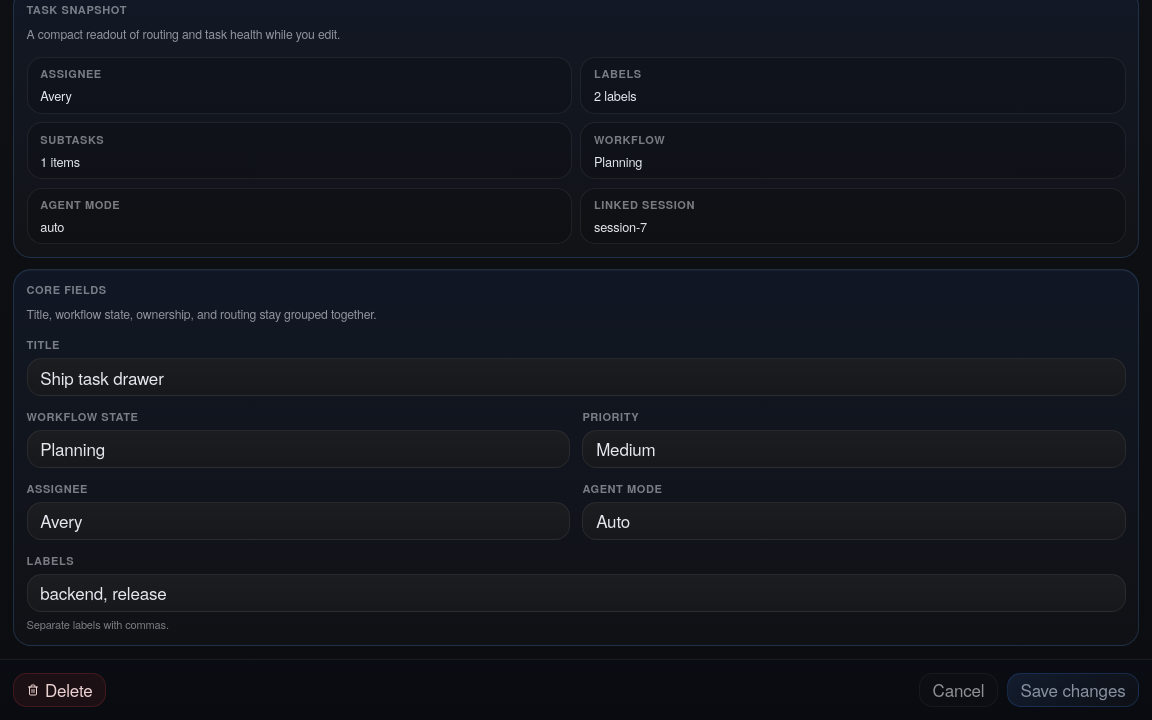
Test case: TaskDetailDrawer › restores the original values when cancel is pressed
(page scrolled)
Replace the text in the field labelled "Title" with "Discard me" at (576, 377), box [26,358,1126,396]
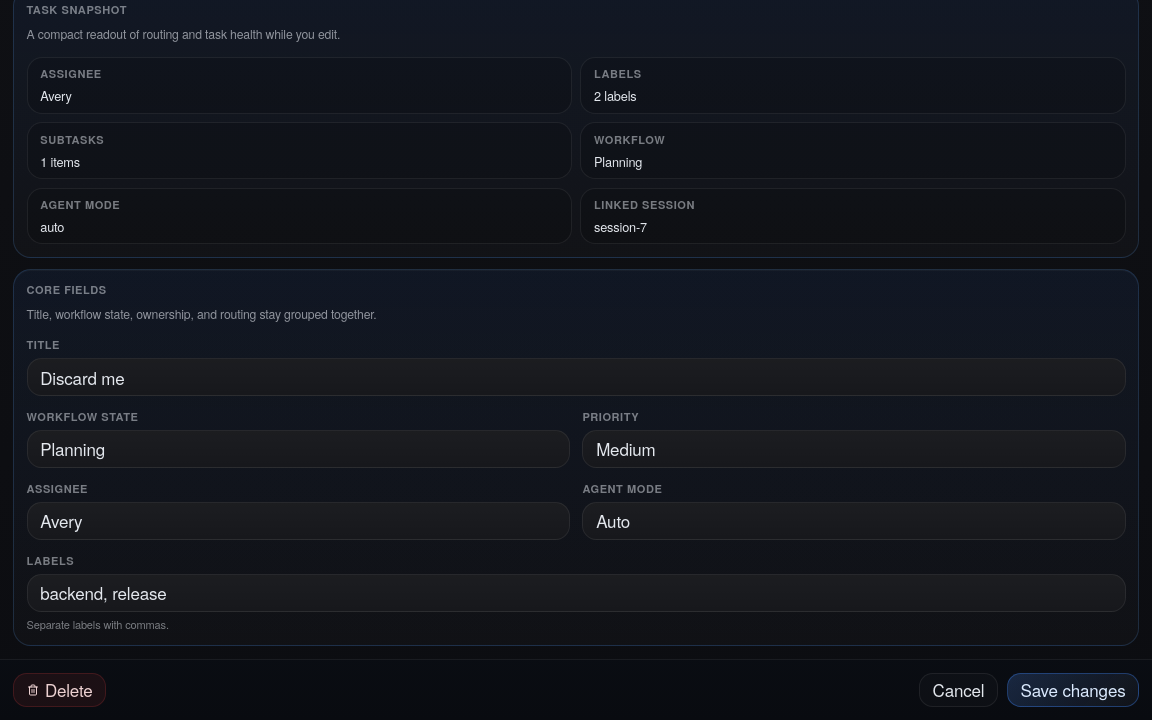
Replace the text in the field with placeholder "backend, review, release" with "temporary" at (576, 593), box [26,574,1126,612]
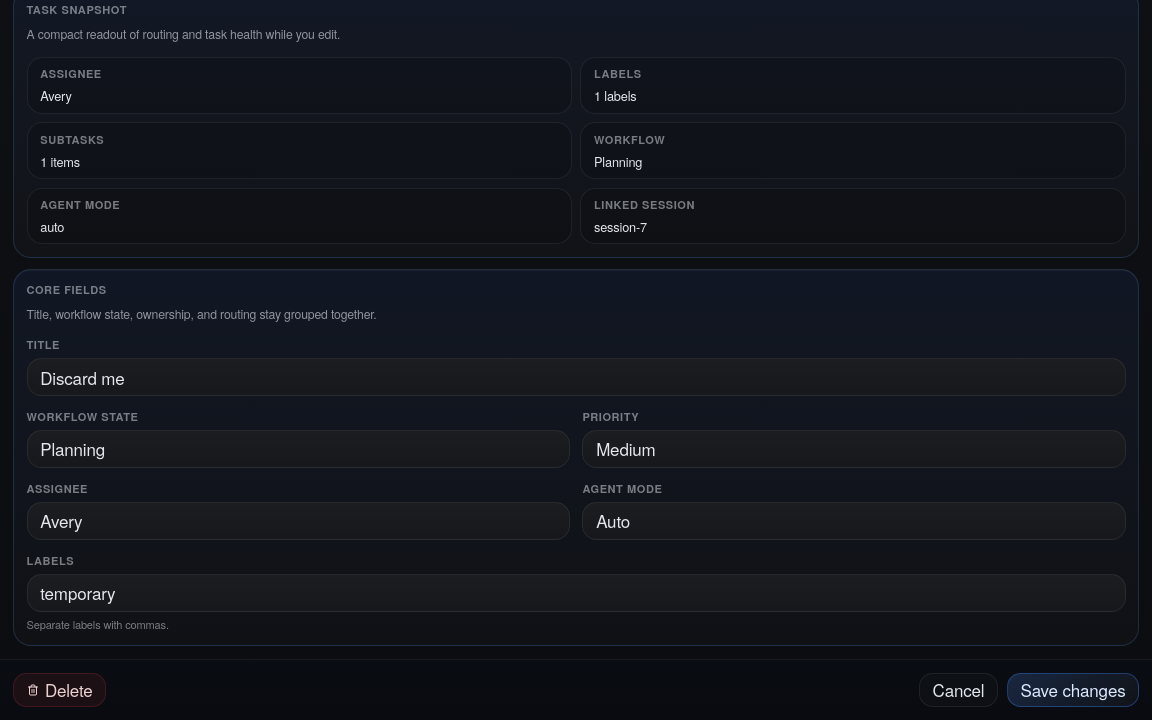
Click the button "Cancel" at (958, 690), box [919,673,998,707]
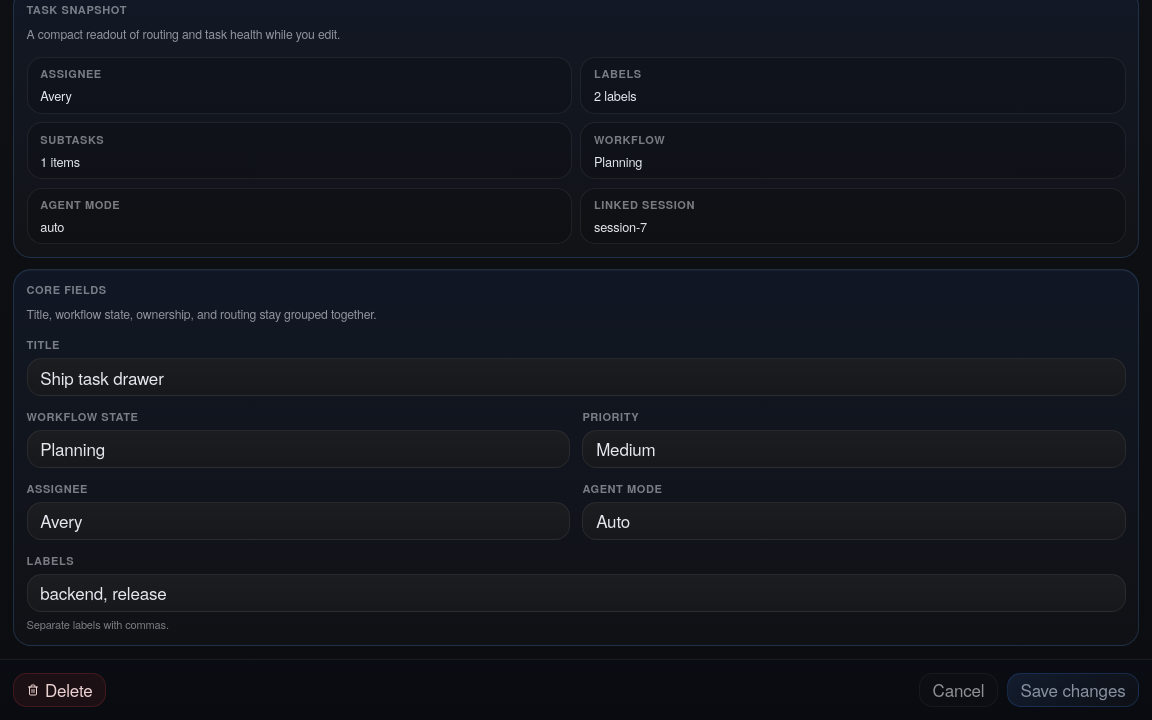
Expected: the field labelled "Title" holds "Ship task drawer", [26,358,1126,396]
Expected: the field with placeholder "backend, review, release" holds "backend, release", [26,574,1126,612]
